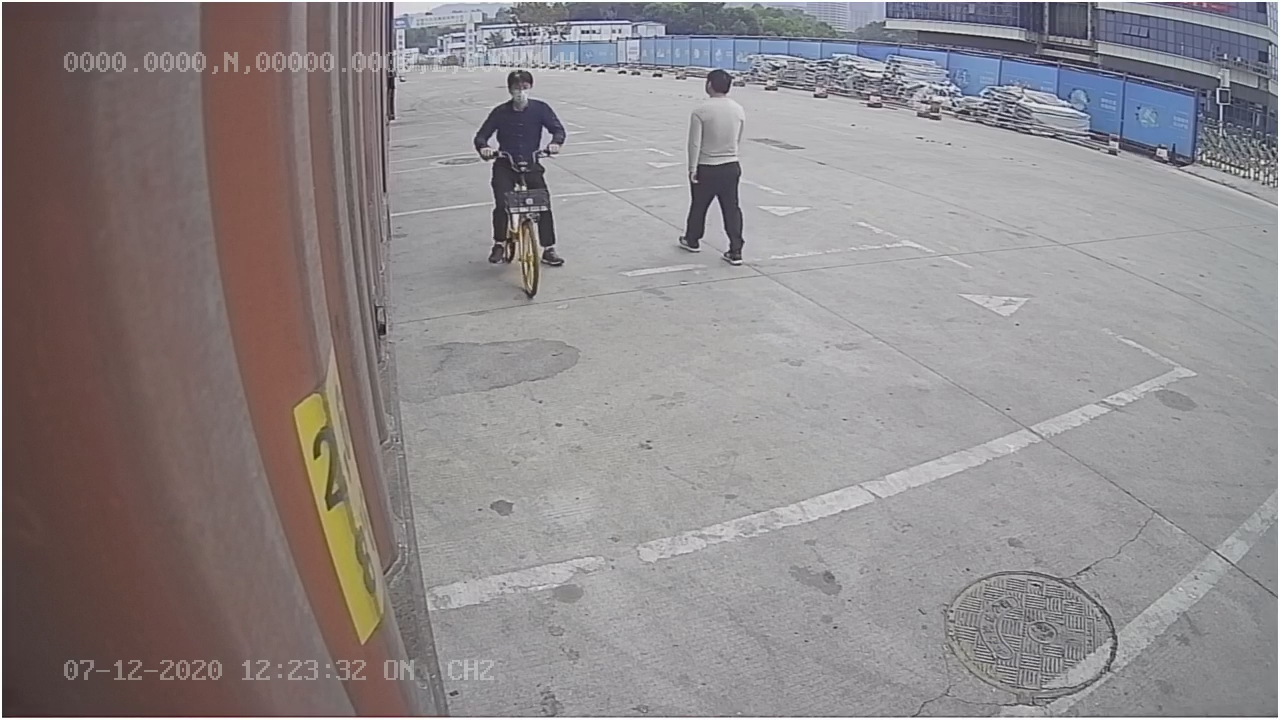person: (675, 65, 751, 267)
